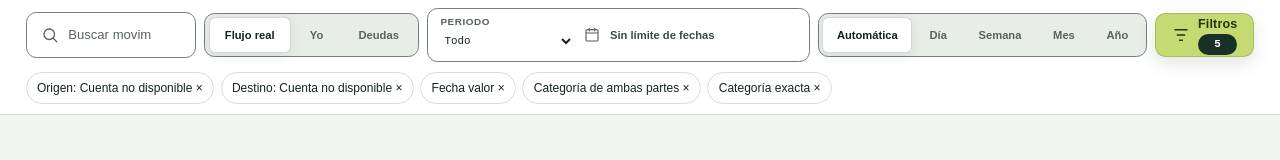
Test case: GlobalFilters › announces and independently clears the new filter dimensions
Check: the button with aria-label "Abrir todos los filtros, 5 activos" is shown, box [1155,13,1254,57]
Click the button with aria-label "Quitar filtro Fecha valor" at (468, 88), box [420,72,516,104]
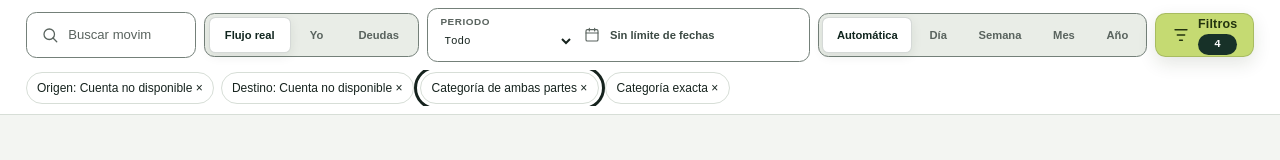
Check: the button with aria-label "Abrir todos los filtros, 4 activos" is shown, box [1155,13,1254,57]
